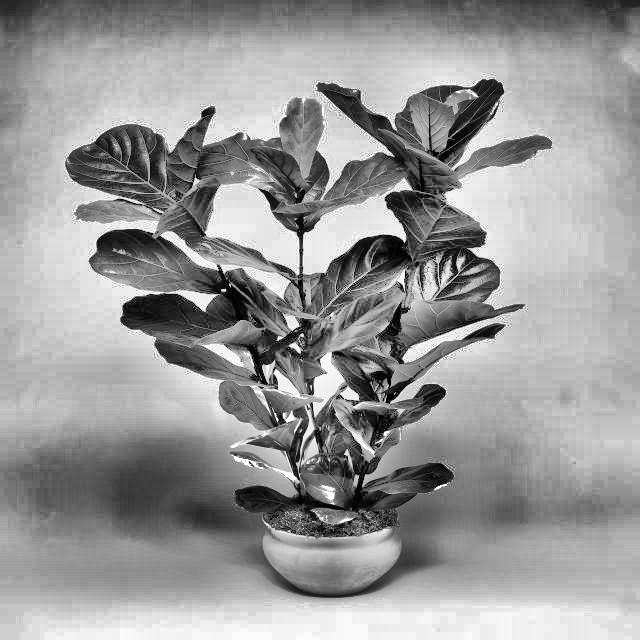plants: (92, 69, 525, 602)
